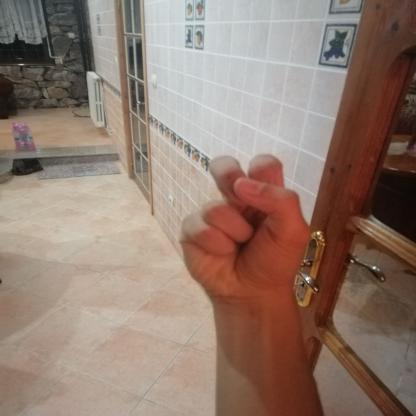QAAF: (148, 143, 339, 312)
